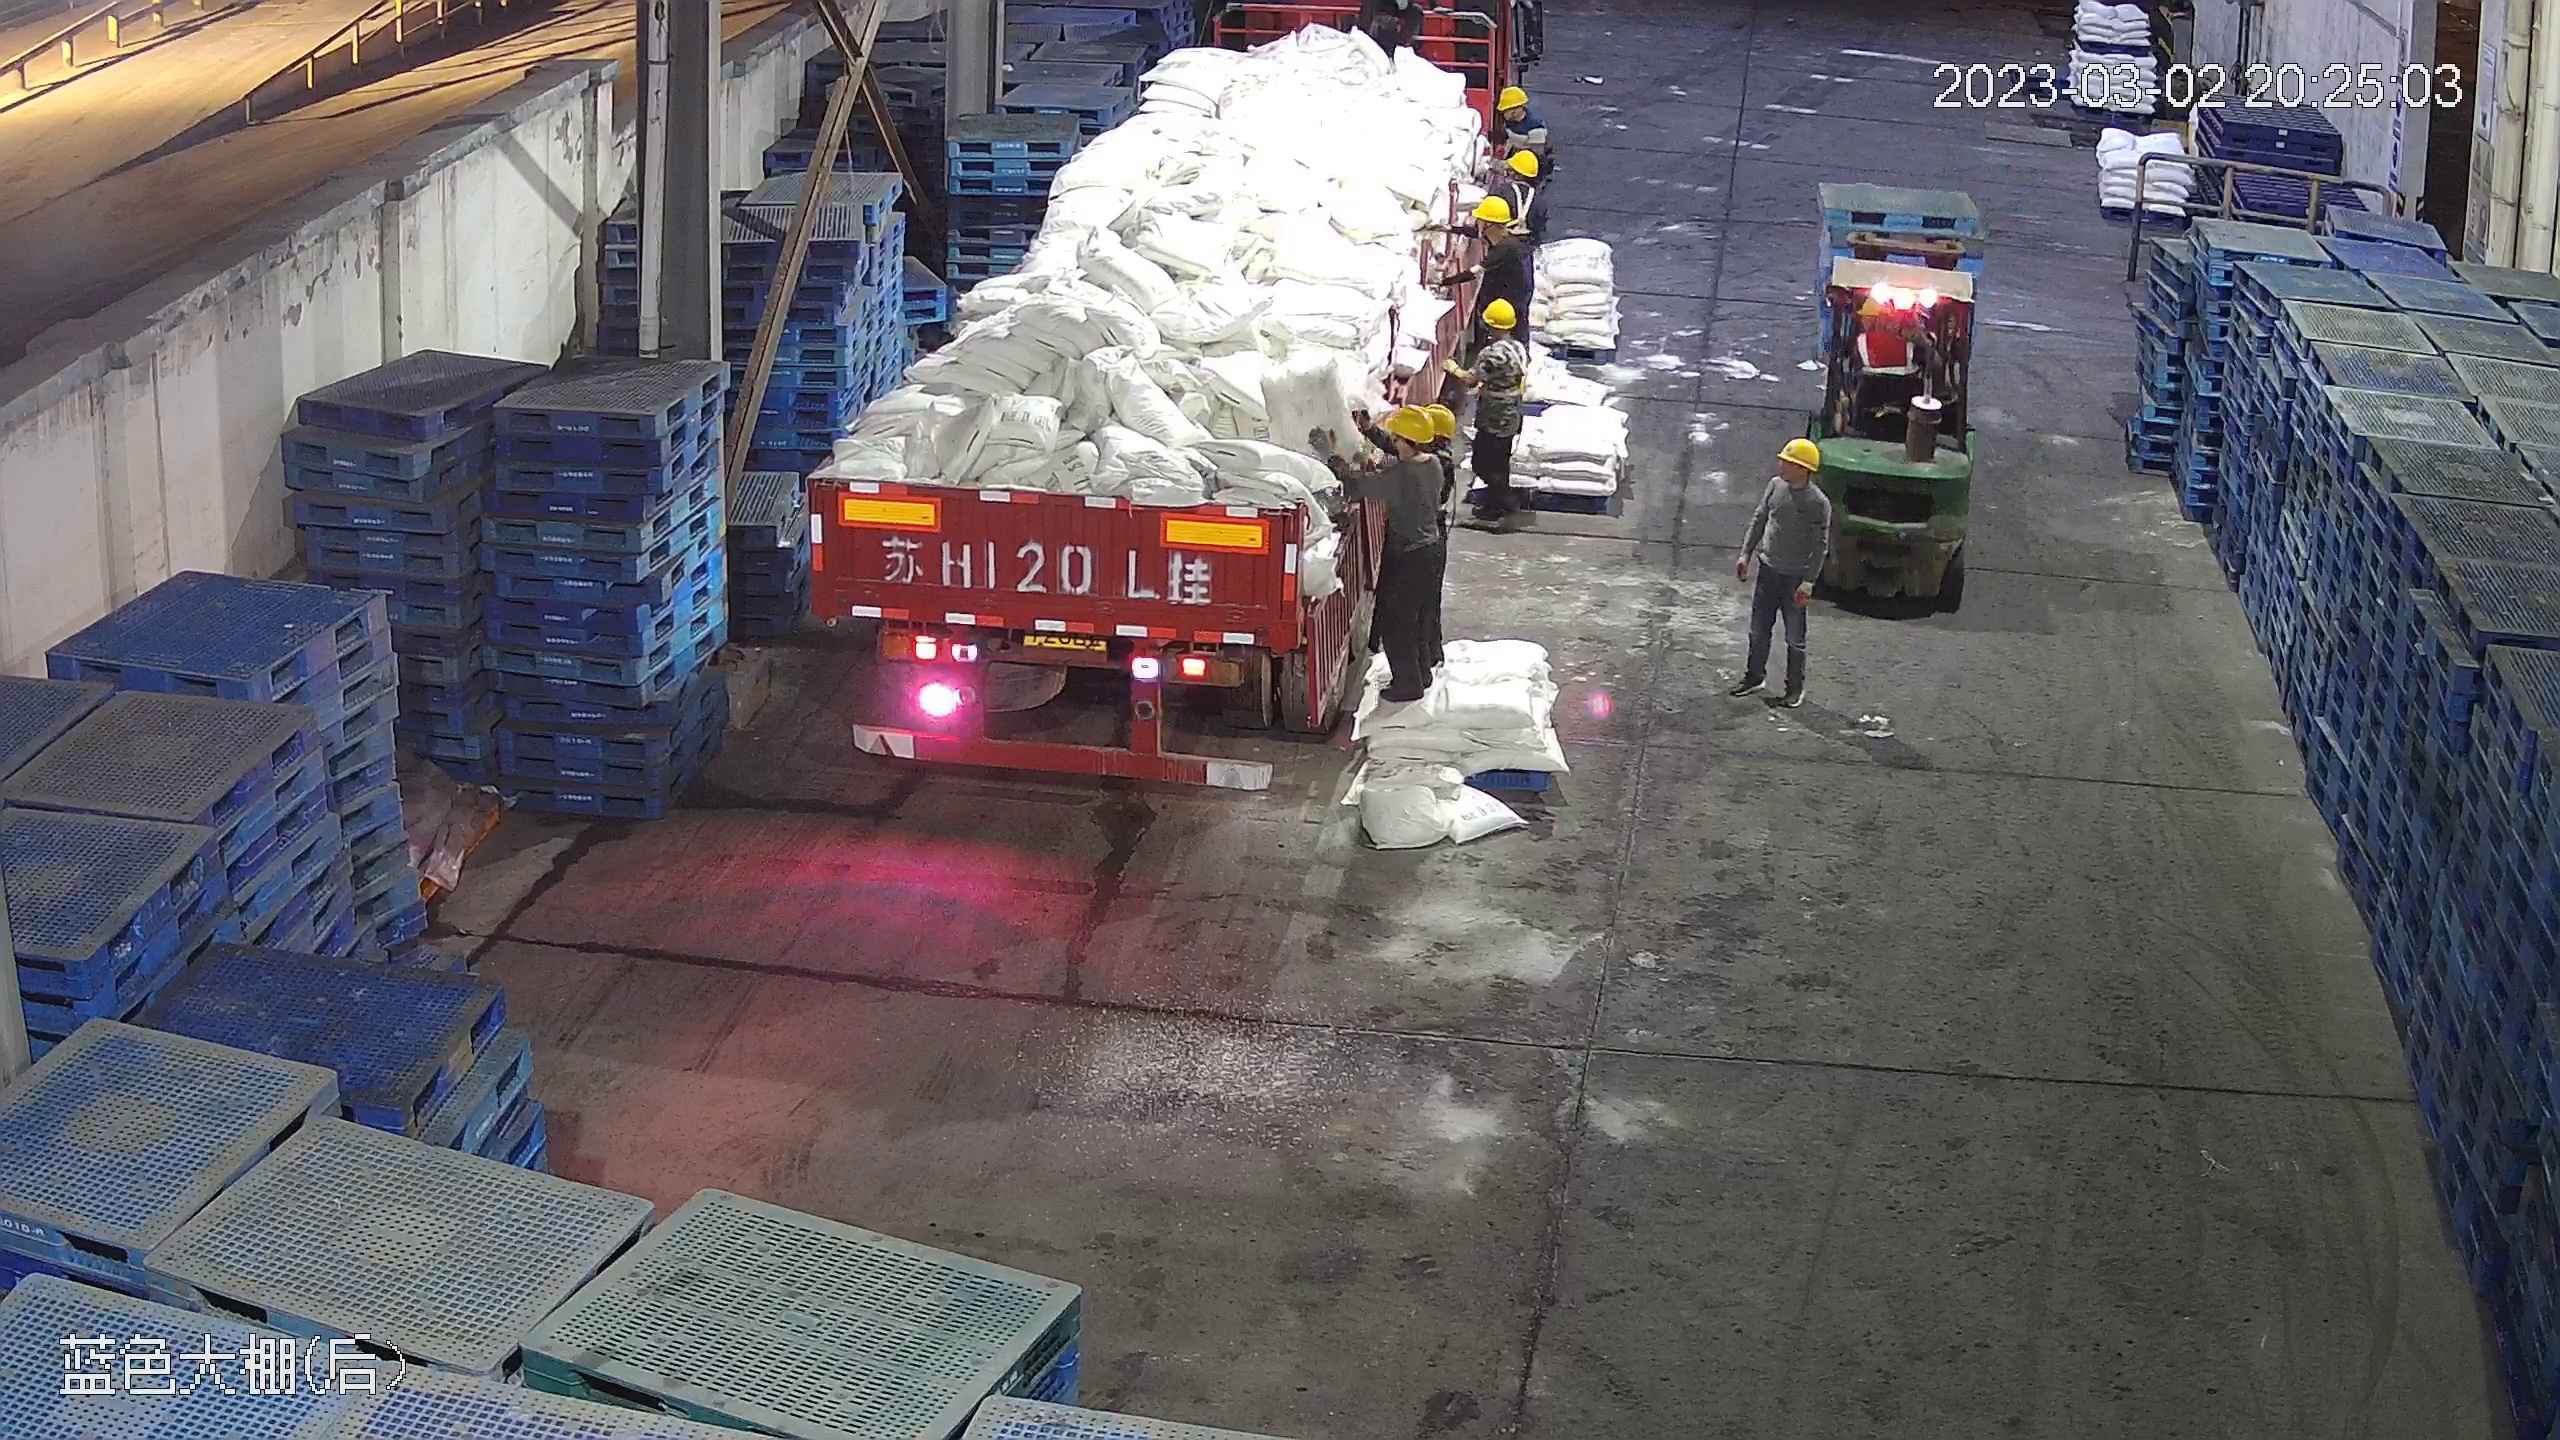belt: (1489, 338, 1529, 399), (1504, 177, 1537, 232)
head: (1367, 400, 1454, 502), (1752, 435, 1833, 526), (1455, 291, 1527, 372), (1461, 191, 1527, 268), (1483, 83, 1543, 140)
helmet: (1384, 401, 1449, 444), (1472, 197, 1520, 228), (1777, 435, 1822, 468), (1504, 144, 1541, 179), (1480, 296, 1519, 327), (1492, 82, 1531, 111)
people: (1334, 396, 1459, 713), (1727, 432, 1831, 709), (1446, 289, 1529, 534)
truck: (794, 6, 1511, 797)
